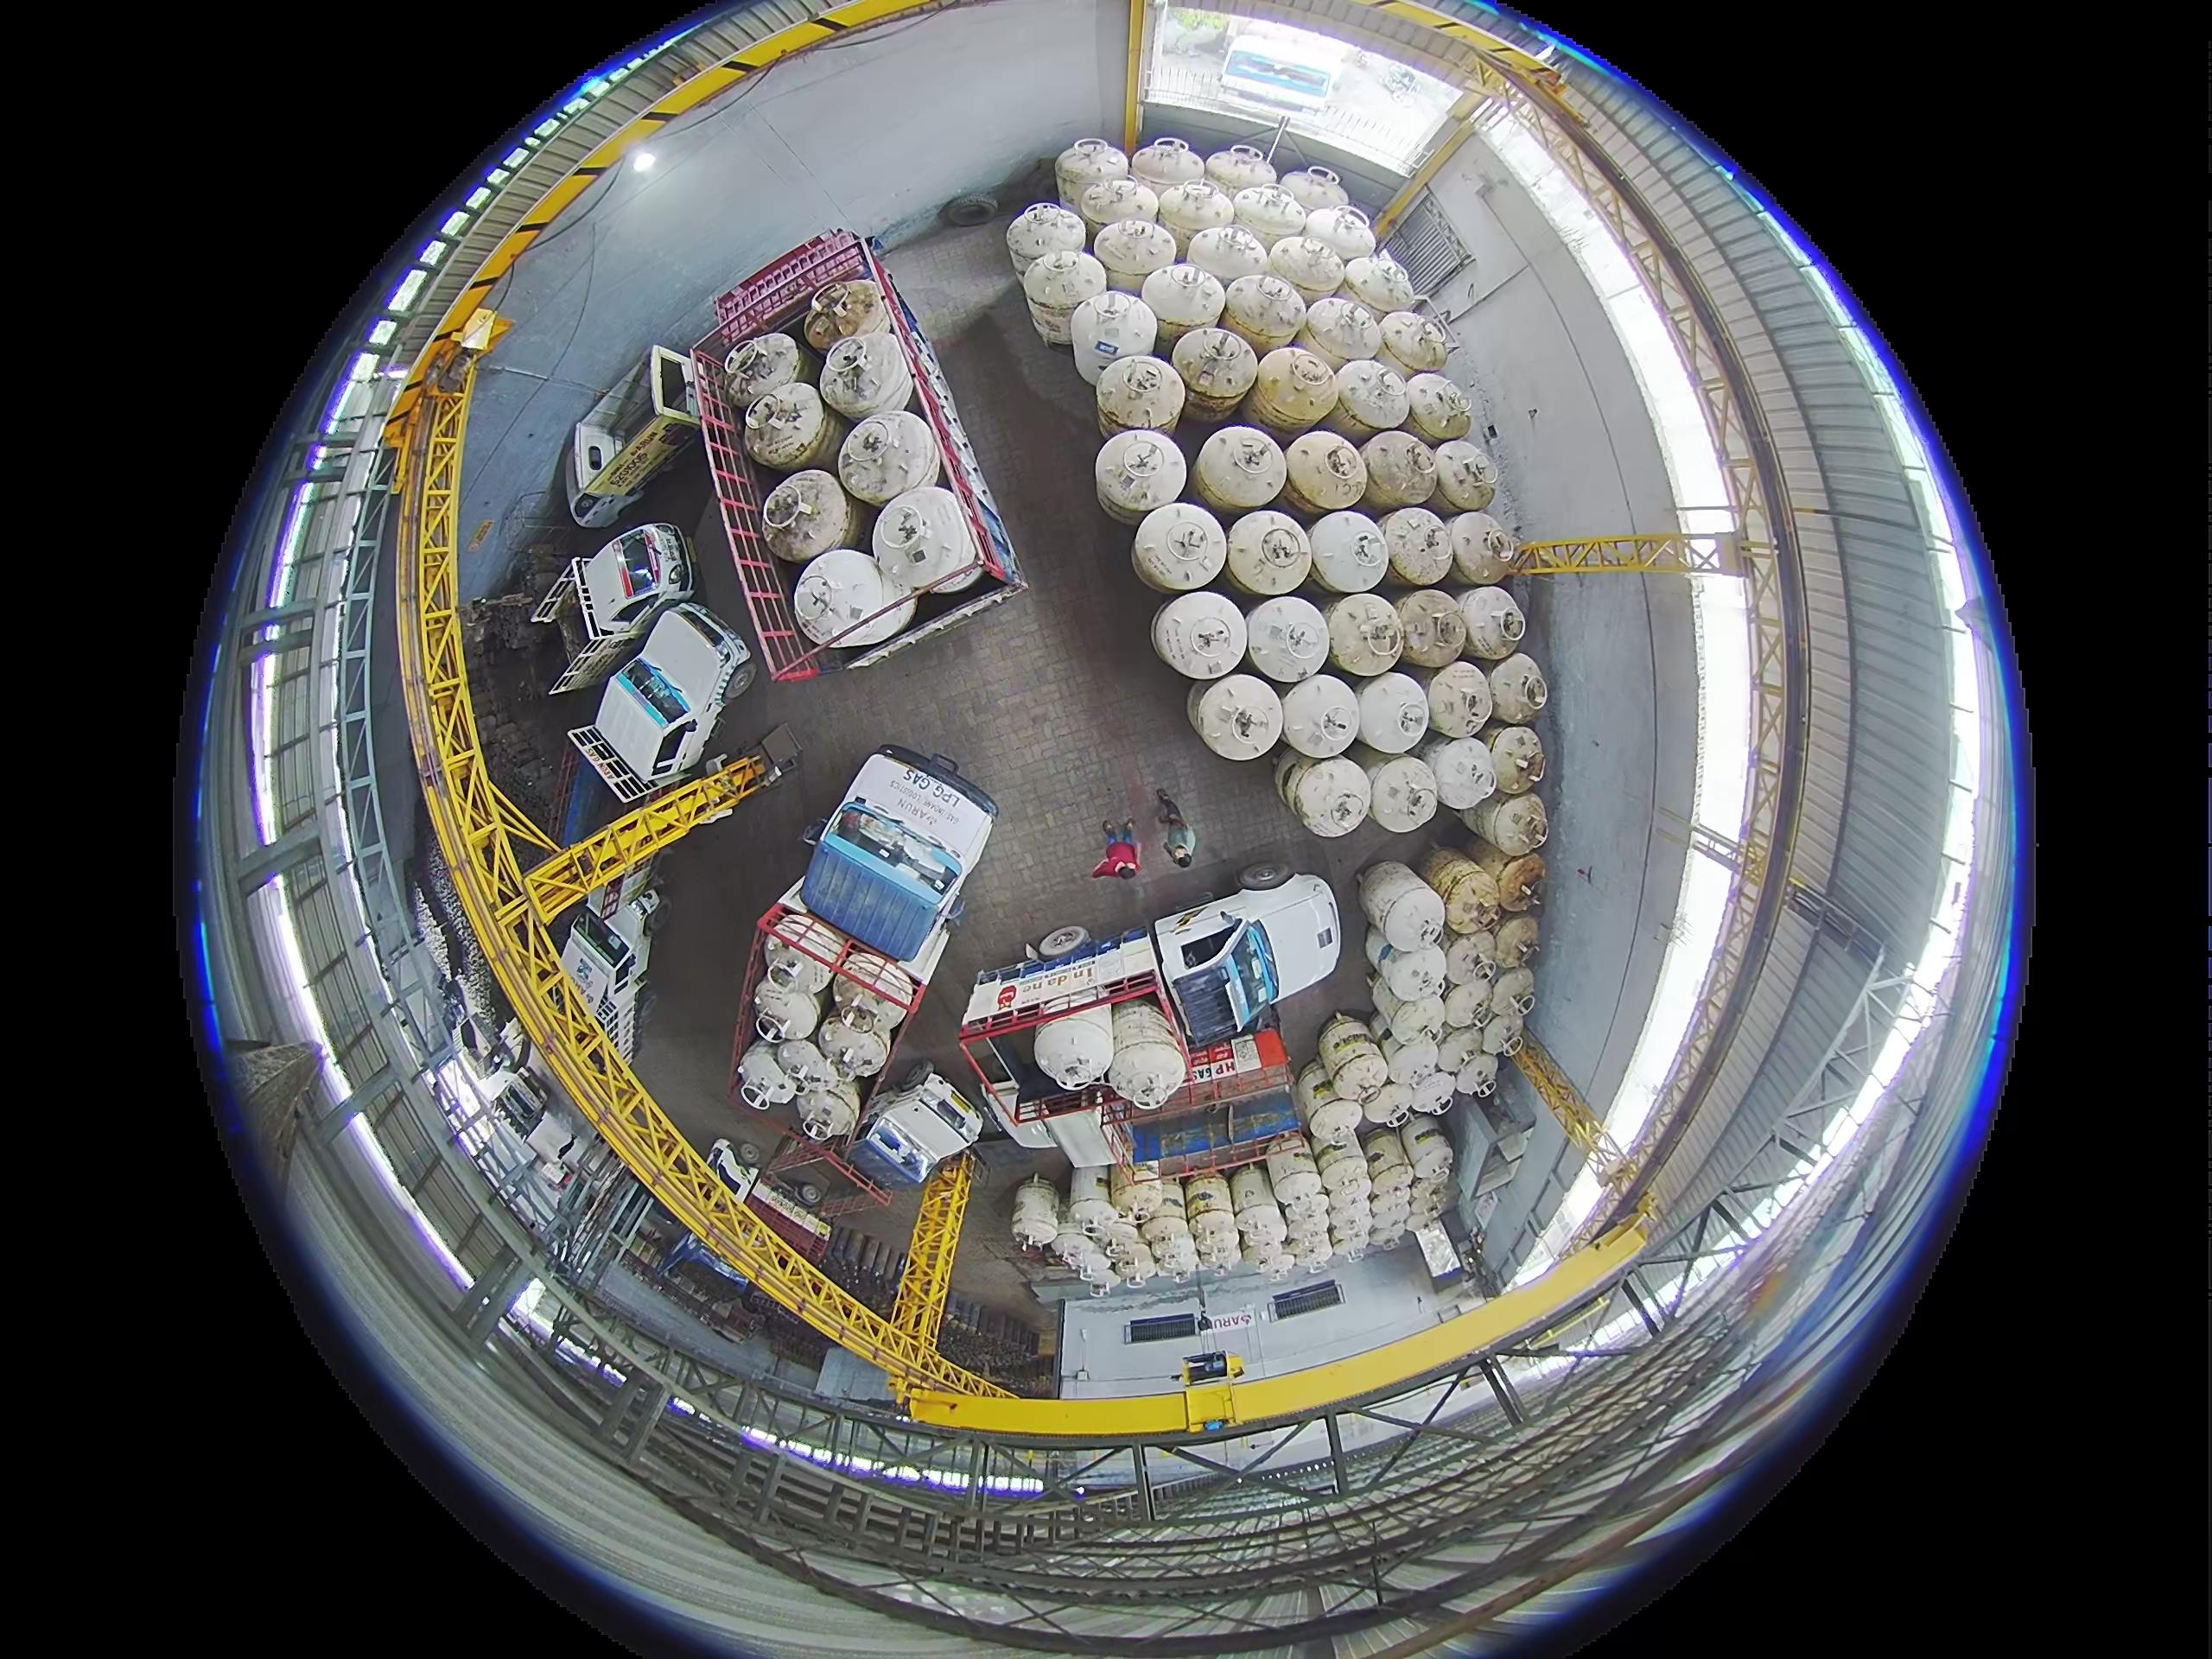cylinder: (760, 468, 856, 565), (821, 329, 922, 421), (1152, 590, 1249, 682), (1131, 502, 1228, 594), (1095, 430, 1186, 524), (741, 382, 836, 472), (1195, 424, 1289, 514), (1188, 672, 1283, 760), (1017, 248, 1099, 346), (1252, 346, 1343, 435), (1355, 860, 1446, 948), (1171, 326, 1259, 416), (1070, 290, 1154, 382), (1243, 595, 1330, 683), (1226, 510, 1314, 596), (1278, 673, 1364, 760), (1095, 353, 1182, 439), (1306, 509, 1392, 594), (1283, 429, 1368, 515), (1141, 261, 1226, 346), (1221, 272, 1308, 355), (1033, 1009, 1113, 1096), (1324, 594, 1407, 677), (1287, 755, 1372, 835), (1361, 429, 1439, 513), (803, 276, 889, 351), (721, 331, 803, 410), (1355, 672, 1432, 753), (1155, 179, 1236, 255), (1393, 588, 1470, 668), (1382, 506, 1459, 587), (1186, 220, 1272, 290), (1425, 734, 1500, 812), (1332, 359, 1411, 434), (1301, 295, 1382, 368), (1421, 849, 1497, 926), (1425, 658, 1497, 739), (1365, 754, 1440, 831), (1109, 1039, 1189, 1110), (1094, 216, 1174, 287), (1465, 788, 1548, 855), (1266, 232, 1345, 302), (1007, 200, 1083, 273), (1056, 138, 1129, 213), (1449, 510, 1521, 585), (1078, 175, 1155, 245), (1457, 585, 1529, 659), (1231, 184, 1309, 251), (1128, 137, 1205, 205), (1432, 439, 1502, 512), (1401, 372, 1470, 444), (1301, 204, 1377, 270), (1340, 252, 1416, 315), (1377, 944, 1448, 1012), (831, 966, 909, 1027), (753, 976, 823, 1043), (1484, 652, 1549, 723), (1378, 309, 1447, 376), (1484, 723, 1547, 796), (1323, 1038, 1390, 1105), (1466, 829, 1541, 886), (734, 1043, 799, 1108), (1380, 1034, 1444, 1100), (1109, 1001, 1182, 1058), (1205, 144, 1279, 200), (1010, 1174, 1062, 1251), (761, 943, 831, 999), (1280, 167, 1350, 219), (1442, 931, 1500, 994), (772, 1039, 833, 1098), (1294, 1058, 1342, 1131), (1370, 977, 1430, 1035), (1306, 1090, 1367, 1146), (1400, 1115, 1452, 1179), (1439, 976, 1497, 1033), (1267, 1144, 1323, 1204), (1144, 1221, 1200, 1281), (1188, 1214, 1242, 1273), (1494, 853, 1548, 911), (1433, 1020, 1488, 1075), (1487, 965, 1535, 1026), (1325, 1188, 1371, 1250), (1232, 1206, 1287, 1259), (1119, 1180, 1181, 1226), (1491, 916, 1541, 972), (1281, 1221, 1333, 1274), (1361, 1128, 1413, 1181), (1480, 1007, 1531, 1061), (1358, 1079, 1414, 1128), (1230, 1165, 1281, 1217), (1183, 1173, 1236, 1222), (1317, 1153, 1370, 1200), (1068, 1193, 1123, 1239), (1068, 1162, 1113, 1218), (1281, 1187, 1332, 1236), (1366, 1186, 1412, 1239), (1092, 1217, 1146, 1262), (1453, 1049, 1500, 1100), (1274, 753, 1313, 812), (1069, 1240, 1116, 1287), (1367, 1161, 1415, 1208), (1403, 1182, 1450, 1229), (1051, 1224, 1096, 1268), (1035, 925, 1090, 959), (1109, 1246, 1154, 1286)
truck: (694, 229, 1024, 681), (733, 747, 997, 1140), (961, 874, 1344, 1127), (544, 605, 738, 884), (766, 1058, 987, 1217), (505, 515, 701, 683), (666, 1139, 873, 1295), (557, 350, 704, 537), (555, 878, 646, 1076)
